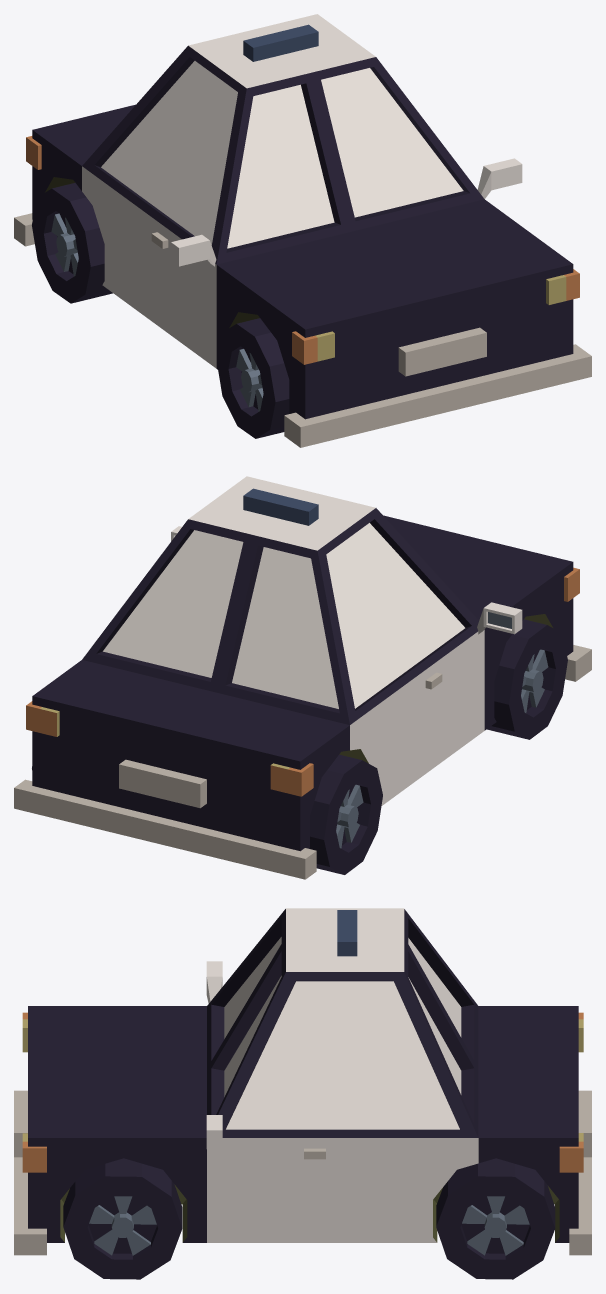
Rendered from police car.fbx.
3 views of the same model, one above another, from view 1: azimuth 30°, elevation 25°; view 2: azimuth 150°, elevation 25°; view 3: azimuth 270°, elevation 25° (orthographic).
Visible parts, largest first — view 1: car 6; view 2: car 6; view 3: car 6.
Part boxes in pixels (x1,y1,x2,y2): car 6: (14, 14, 591, 447); car 6: (14, 476, 591, 879); car 6: (14, 908, 591, 1279).
Bounding box in the file's own units: 235 × 183 × 340.
